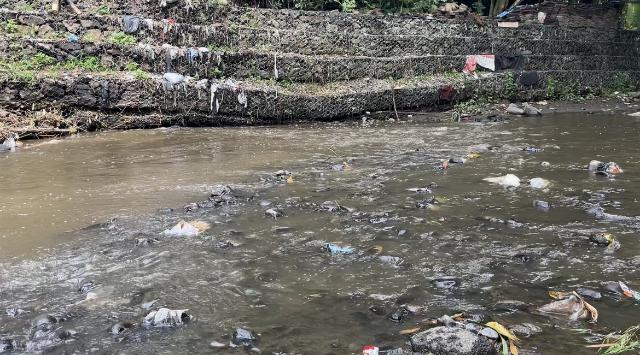Sampah Anorganik: (539, 287, 601, 324), (323, 241, 358, 256), (479, 174, 520, 186), (617, 279, 638, 299), (526, 175, 555, 188), (362, 345, 377, 355), (468, 152, 481, 158)
Sampah Organik: (408, 315, 525, 355), (577, 329, 639, 355), (585, 160, 628, 177), (167, 221, 206, 235), (598, 232, 616, 244), (367, 244, 381, 258), (337, 162, 353, 170), (284, 175, 298, 184), (443, 160, 448, 171)
